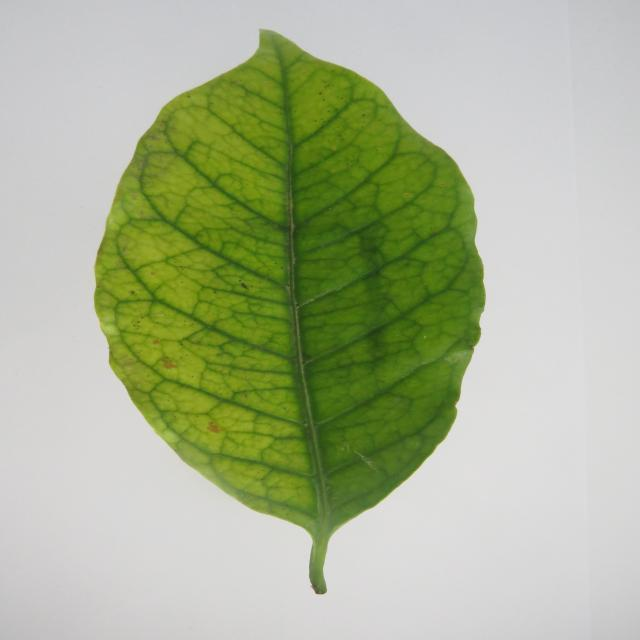DeficienciaNutricional-Magnesio: (95, 31, 485, 594)
